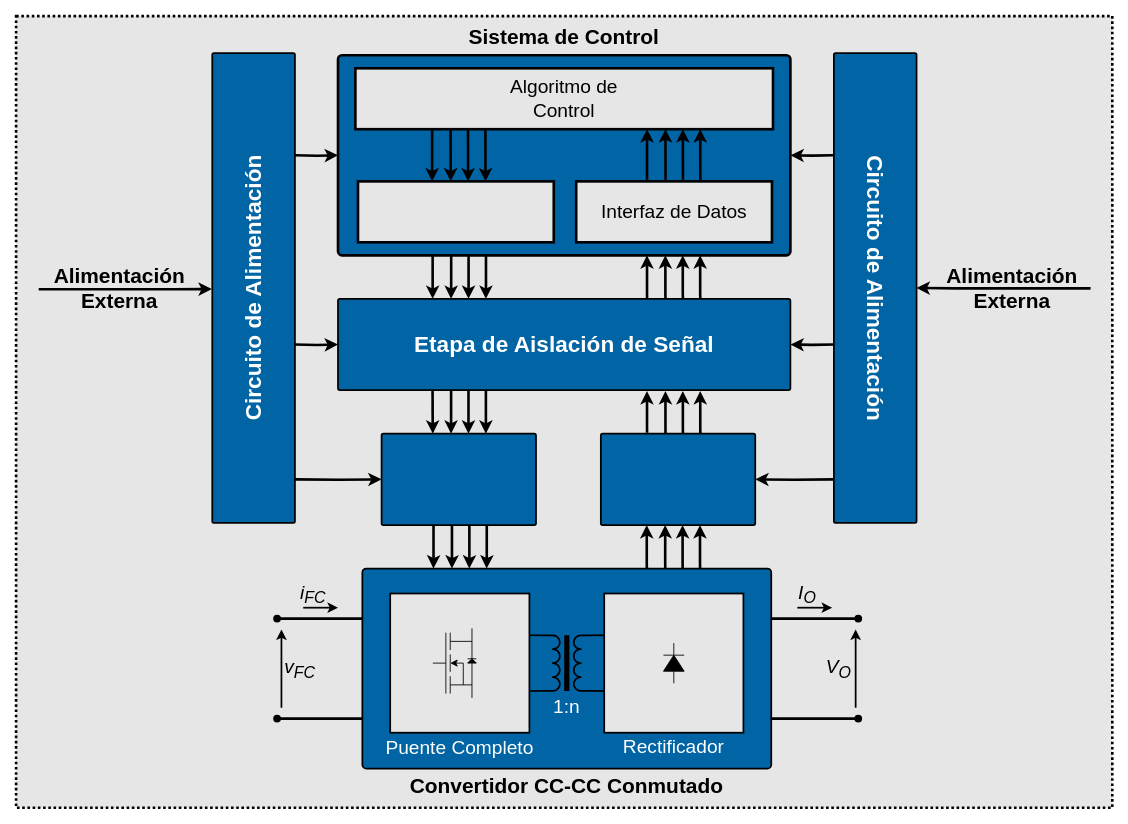
The diagram is 1128 pixels wide and 824 high, and some of its shapes have lost their labels. Each missing label, with the box of its shape:
Circuito Driver: (380, 432, 536, 525)
ePWM: (356, 180, 555, 243)
Sistema de Medición: (600, 432, 756, 525)
